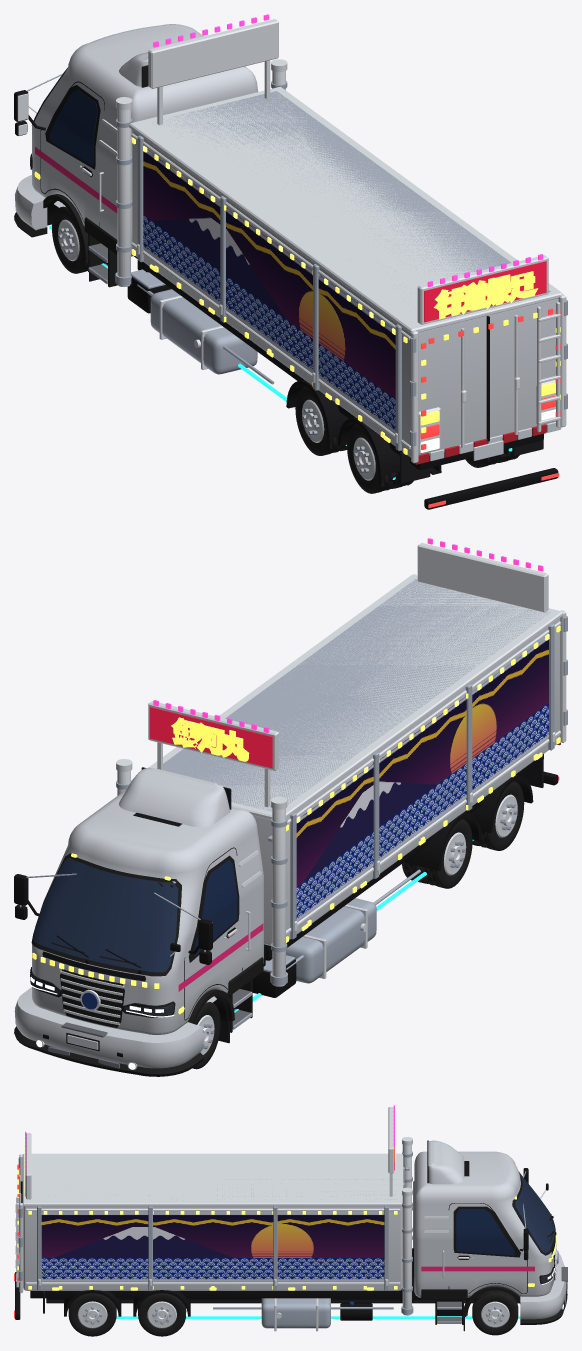
The model's file is dekotora_truck_base_aero.glb.
3 views of the same model, one above another, from view 1: azimuth 30°, elevation 25°; view 2: azimuth 150°, elevation 25°; view 3: azimuth 270°, elevation 25° (orthographic). The views are drawn at different scales.
Parts seen in each view (by area): view 1: truck_chrome, truck_paint_white_panel, truck_mural, truck_steel, truck_plastic_black, truck_lamp_amber, truck_plastic_trim, truck_glass, wheel_r_L_1.5_1.06, wheel_r_L_3.0_1.06, wheel_f_L, truck_andon_panel (+6 smaller); view 2: truck_chrome, truck_steel, truck_paint_white_panel, truck_mural, truck_glass_wind, truck_plastic_trim, truck_plastic_black, truck_lamp_amber, truck_andon_panel, truck_glass, wheel_r_L_3.0_1.06, wheel_r_L_1.5_1.06 (+3 smaller); view 3: truck_chrome, truck_mural, truck_paint_white_panel, truck_plastic_black, truck_steel, truck_plastic_trim, truck_glass, wheel_f_R, wheel_r_R_1.5_1.06, wheel_r_R_3.0_1.06, truck_glass_wind, truck_lamp_amber (+3 smaller).
Part boxes in pixels (x1=…): truck_chrome: x1=17, y1=19, x2=566, y2=463; truck_paint_white_panel: x1=15, y1=24, x2=558, y2=457; truck_mural: x1=143, y1=150, x2=395, y2=432; truck_steel: x1=20, y1=73, x2=567, y2=450; truck_plastic_black: x1=14, y1=81, x2=558, y2=509; truck_lamp_amber: x1=34, y1=137, x2=560, y2=454; truck_plastic_trim: x1=14, y1=65, x2=148, y2=287; truck_glass: x1=49, y1=89, x2=97, y2=165; wheel_r_L_1.5_1.06: x1=347, y1=424, x2=397, y2=493; wheel_r_L_3.0_1.06: x1=295, y1=386, x2=342, y2=455; wheel_f_L: x1=52, y1=206, x2=87, y2=273; truck_andon_panel: x1=424, y1=261, x2=546, y2=322; truck_chrome: x1=28, y1=543, x2=566, y2=1069; truck_steel: x1=19, y1=579, x2=567, y2=1029; truck_paint_white_panel: x1=14, y1=618, x2=559, y2=1068; truck_mural: x1=296, y1=638, x2=548, y2=921; truck_glass_wind: x1=32, y1=857, x2=178, y2=972; truck_plastic_trim: x1=14, y1=767, x2=263, y2=1076; truck_plastic_black: x1=14, y1=754, x2=558, y2=1057; truck_lamp_amber: x1=32, y1=625, x2=560, y2=1014; truck_andon_panel: x1=150, y1=707, x2=272, y2=768; truck_glass: x1=194, y1=859, x2=237, y2=956; wheel_r_L_3.0_1.06: x1=422, y1=819, x2=472, y2=888; wheel_r_L_1.5_1.06: x1=476, y1=781, x2=524, y2=850; truck_chrome: x1=15, y1=1107, x2=563, y2=1331; truck_mural: x1=41, y1=1213, x2=384, y2=1280; truck_paint_white_panel: x1=23, y1=1140, x2=566, y2=1319; truck_plastic_black: x1=15, y1=1161, x2=567, y2=1320; truck_steel: x1=18, y1=1151, x2=526, y2=1328; truck_plastic_trim: x1=421, y1=1140, x2=567, y2=1324; truck_glass: x1=456, y1=1209, x2=514, y2=1255; wheel_f_R: x1=472, y1=1290, x2=518, y2=1335; wheel_r_R_1.5_1.06: x1=68, y1=1293, x2=116, y2=1336; wheel_r_R_3.0_1.06: x1=138, y1=1293, x2=186, y2=1336; truck_glass_wind: x1=515, y1=1171, x2=554, y2=1253; truck_lamp_amber: x1=17, y1=1123, x2=556, y2=1290.
Bounding box in the file's own units: 3.31 × 4.51 × 11.97.
Materials: 25 (8 with a texture image).
